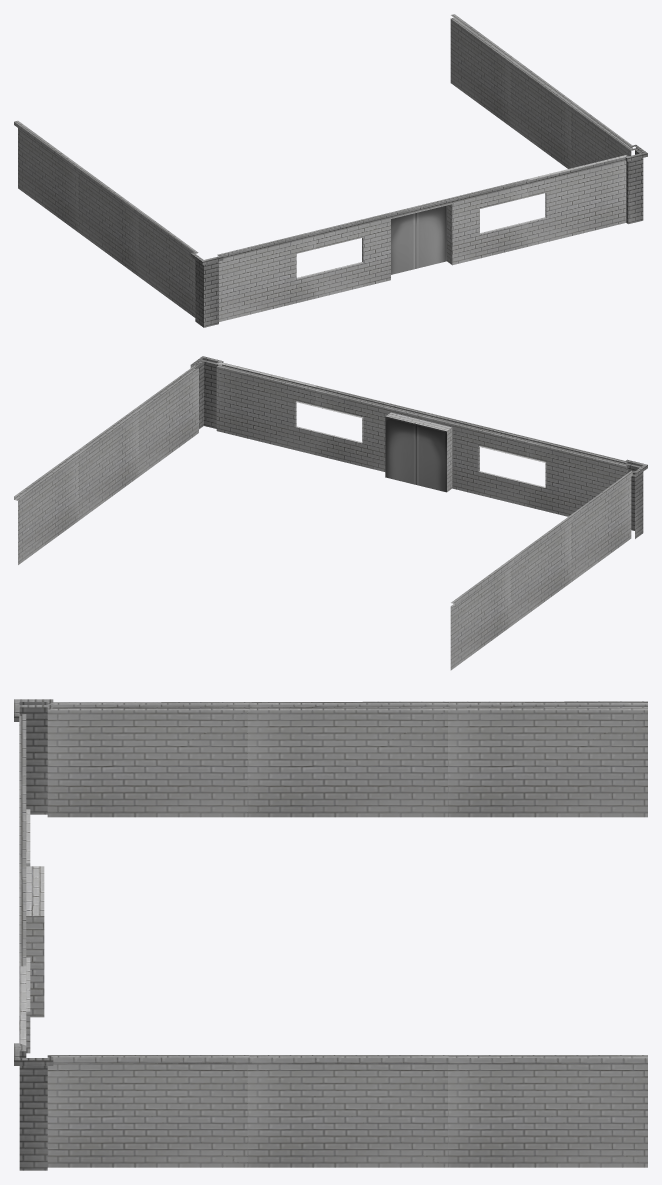
Rendered from Predio25m_Saguao.FBX.
3 renders of one model, top to bottom at view 1: azimuth 30°, elevation 25°; view 2: azimuth 150°, elevation 25°; view 3: azimuth 270°, elevation 25°, orthographic. The views are drawn at different scales.
Parts seen in each view (by area): view 1: Predio25m_Saguao; view 2: Predio25m_Saguao; view 3: Predio25m_Saguao.
Part boxes in pixels (<box>): Predio25m_Saguao: <box>14,14,647,327</box>; Predio25m_Saguao: <box>14,356,647,670</box>; Predio25m_Saguao: <box>14,699,647,1170</box>.
Bounding box in the file's own units: 2060 × 300 × 1530.
Materials: 1 (1 with a texture image).
